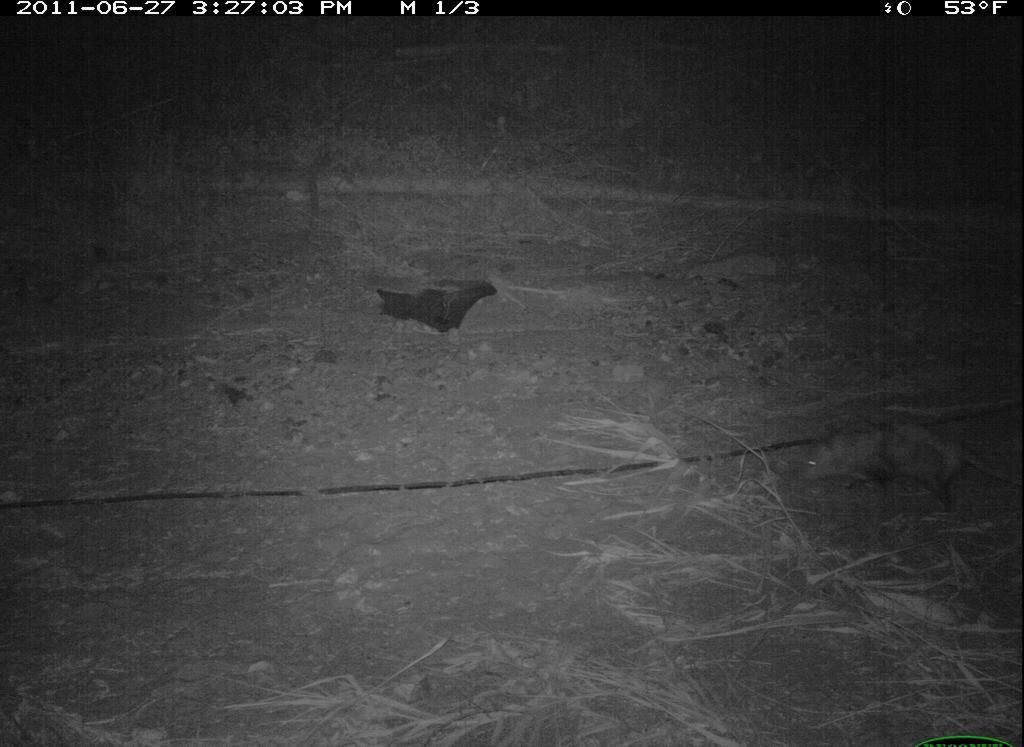opossum: (790, 400, 1023, 527)
